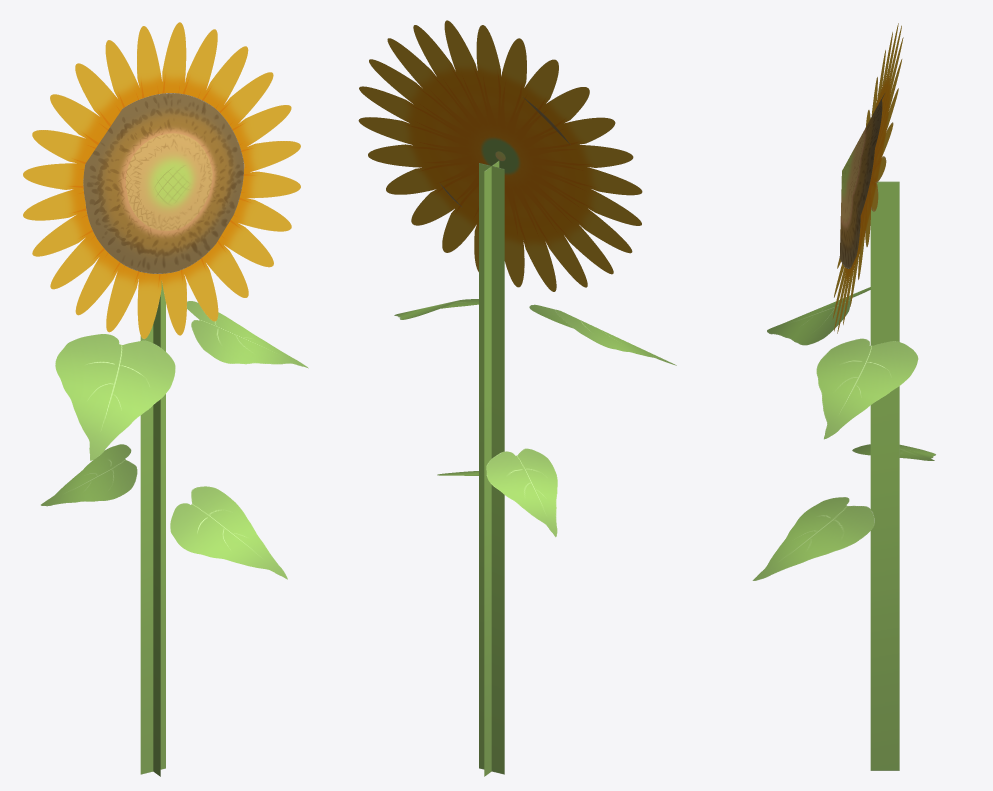
File: sunflower_model.fbx
3 renders of one model, left to right at view 1: azimuth 30°, elevation 25°; view 2: azimuth 150°, elevation 25°; view 3: azimuth 270°, elevation 25°, orthographic. The views are drawn at different scales.
Visible parts, largest first — view 1: sunflower; view 2: sunflower; view 3: sunflower.
Boxes of the visible parts, x1,y1,x2,y2 form: sunflower: [23, 22, 308, 776]; sunflower: [358, 20, 676, 776]; sunflower: [752, 23, 935, 770].
Size of the model in its own units: 2.25 by 5.09 by 1.57.
